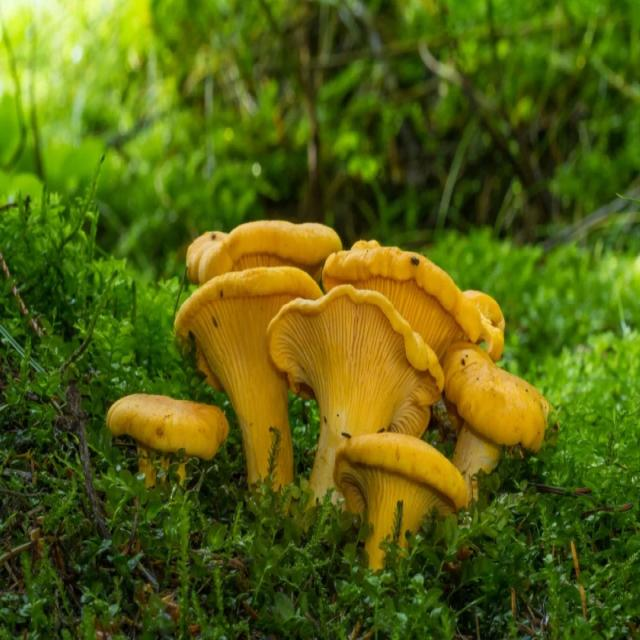chanterelle: (267, 285, 445, 500), (174, 266, 323, 492), (331, 433, 472, 572), (438, 343, 550, 481)
